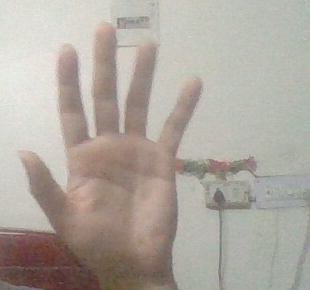move: (69, 16, 223, 290)
